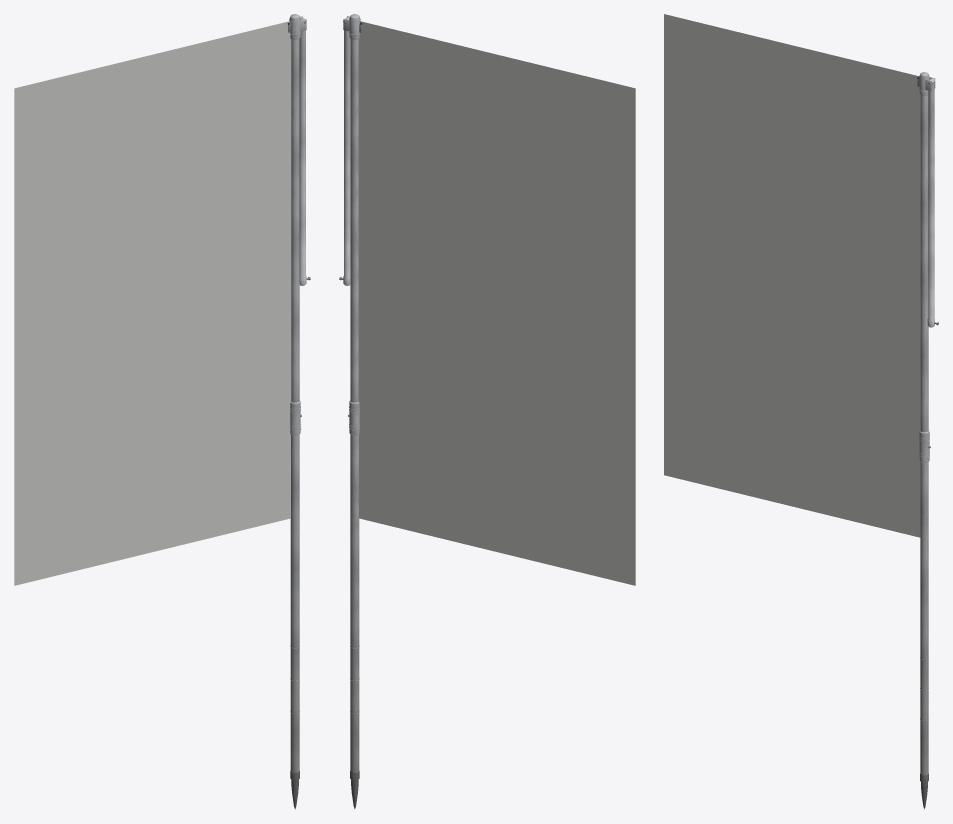
Rendered from flag-mast.glb.
3 renders of one model, left to right at view 1: azimuth 30°, elevation 25°; view 2: azimuth 150°, elevation 25°; view 3: azimuth 330°, elevation 25°, orthographic. The views are drawn at different scales.
Parts seen in each view (by area): view 1: flag-cloth-geo, mast-pole-geo, crossbar-outer-geo; view 2: flag-cloth-geo, mast-pole-geo, crossbar-outer-geo; view 3: flag-cloth-geo, mast-pole-geo, crossbar-outer-geo.
Part boxes in pixels (x1,y1,x2,y2): flag-cloth-geo: [14, 21, 291, 585]; mast-pole-geo: [290, 39, 299, 809]; crossbar-outer-geo: [299, 17, 310, 285]; flag-cloth-geo: [358, 21, 635, 585]; mast-pole-geo: [350, 39, 359, 809]; crossbar-outer-geo: [339, 17, 350, 285]; flag-cloth-geo: [664, 14, 920, 537]; mast-pole-geo: [920, 95, 928, 809]; crossbar-outer-geo: [927, 78, 938, 327].
Size of the model in its own units: 0.9455 by 2.43 by 0.0336.
5 materials, 3 textured.
